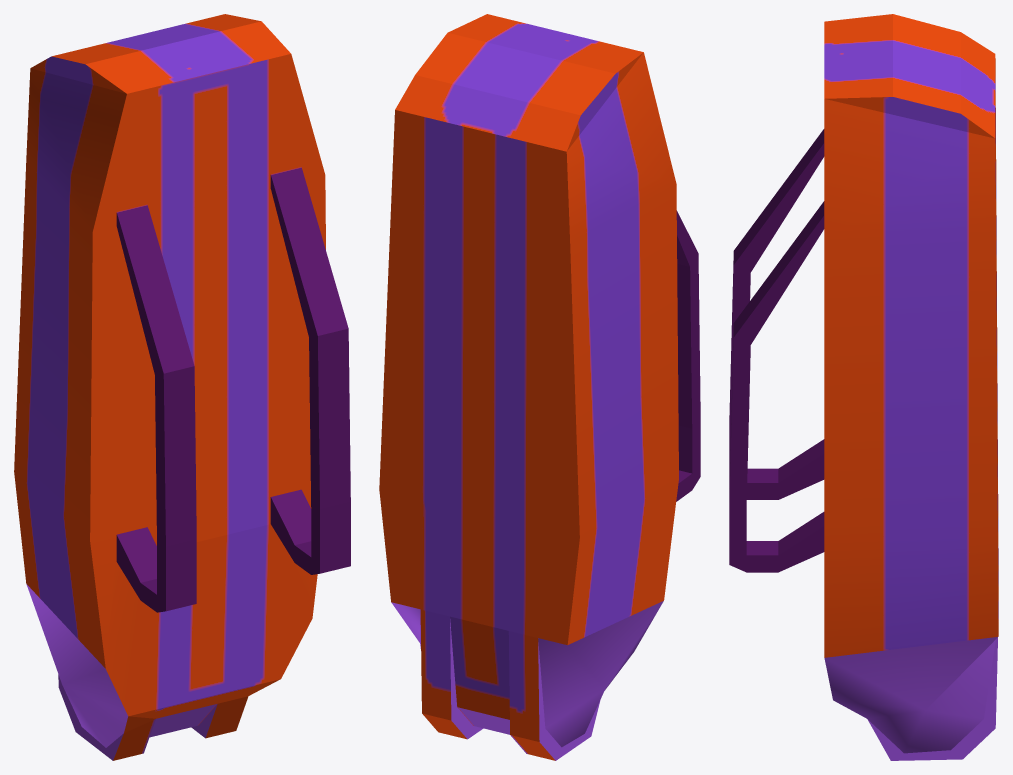
Rendered from hiking_bag.fbx.
The picture shows the model from 3 angles, left to right: view 1: azimuth 30°, elevation 25°; view 2: azimuth 150°, elevation 25°; view 3: azimuth 270°, elevation 25°; orthographic projection. The views are drawn at different scales.
Visible parts, largest first — view 1: pasted__hiking_bag; view 2: pasted__hiking_bag; view 3: pasted__hiking_bag.
Part boxes in pixels (left/top/right/bottom): pasted__hiking_bag: left=14, top=14, right=350, bottom=760; pasted__hiking_bag: left=379, top=14, right=700, bottom=760; pasted__hiking_bag: left=729, top=14, right=998, bottom=760.
Size of the model in its own units: 34.59 by 97.44 by 35.11.
